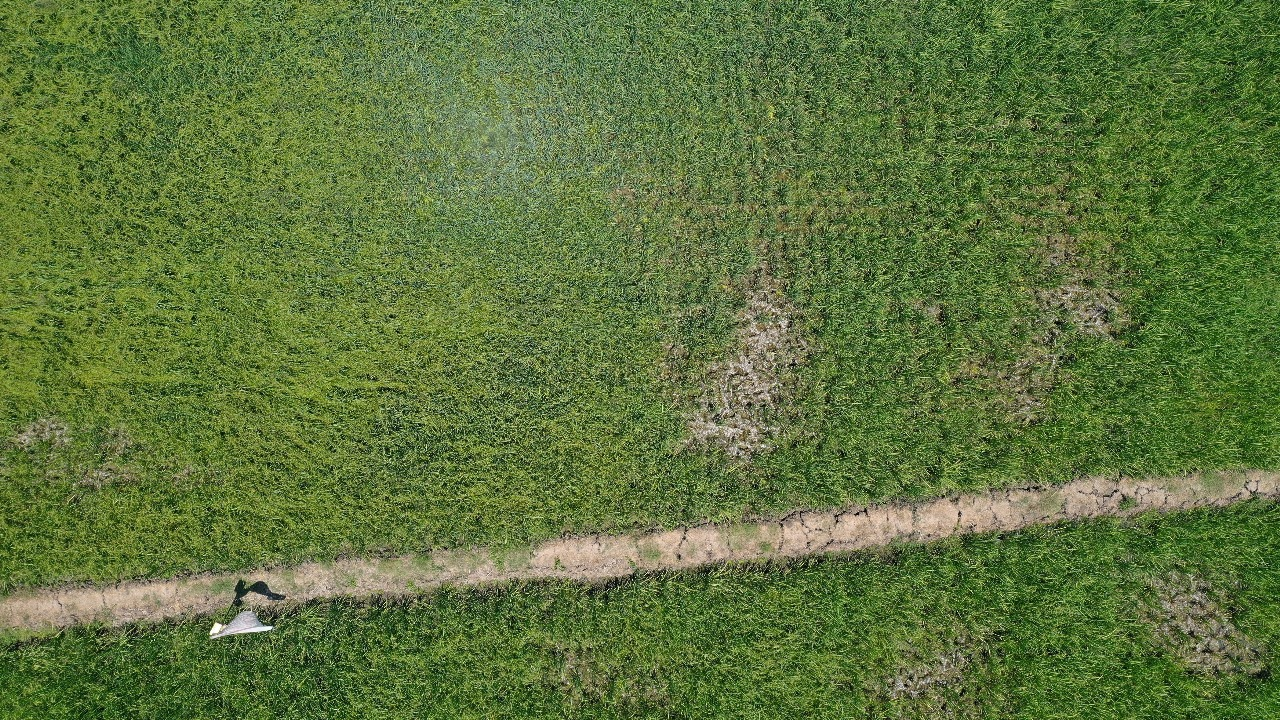irigration: (629, 479, 1056, 564), (285, 536, 711, 605), (1006, 441, 1280, 526), (1, 570, 301, 647)
